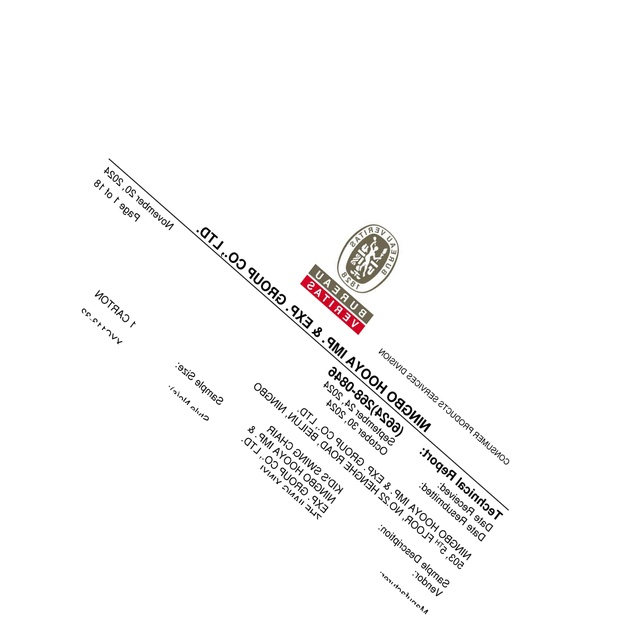bureau_veritas: (298, 222, 400, 337)
